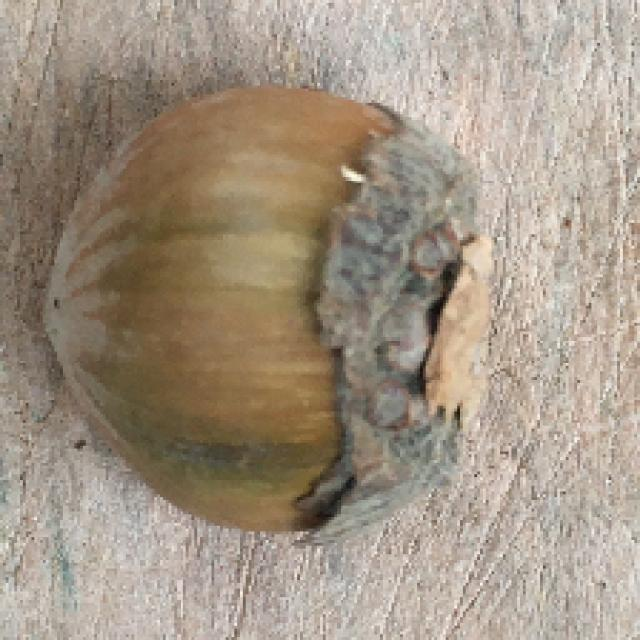damagedHazelnut: (51, 84, 498, 540)
